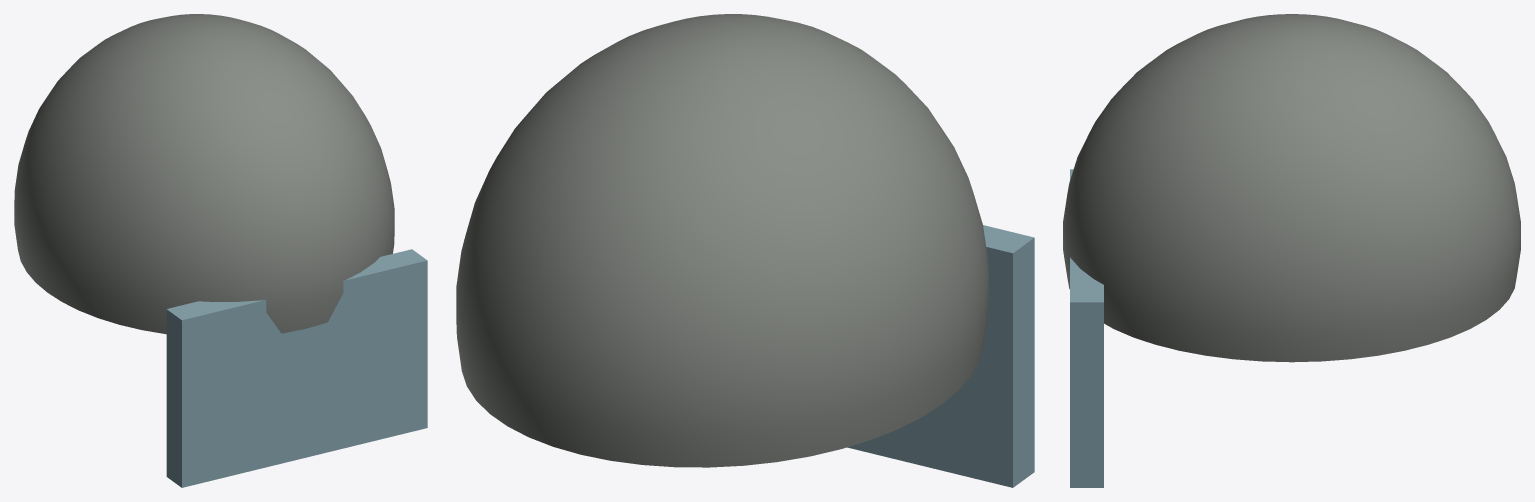
File: riot_helmet.glb
3 views of the same model, side by side, from view 1: azimuth 30°, elevation 25°; view 2: azimuth 150°, elevation 25°; view 3: azimuth 270°, elevation 25° (orthographic). The views are drawn at different scales.
Parts seen in each view (by area): view 1: world; view 2: world; view 3: world.
Part boxes in pixels (x1,y1,x2,y2): world: (14, 14, 427, 487); world: (456, 14, 1034, 487); world: (1063, 14, 1520, 487).
Bounding box in the file's own units: 0.2993 × 0.315 × 0.3352.
